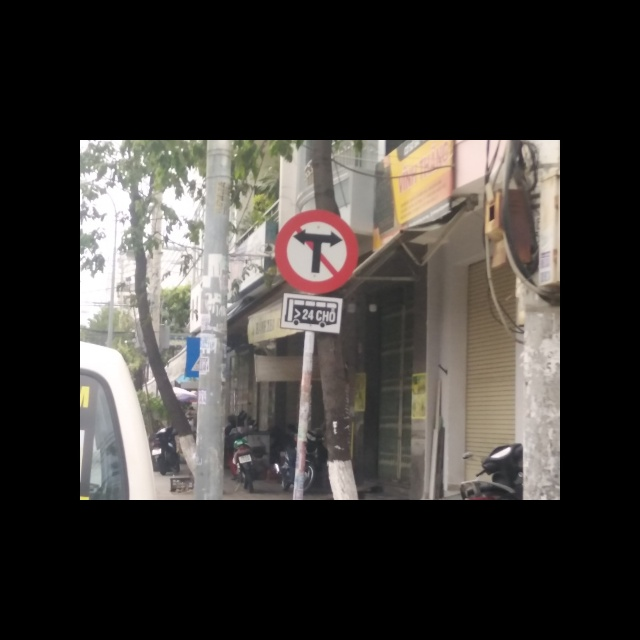Cấm rẽ trái và rẽ phải: (273, 208, 360, 294)
